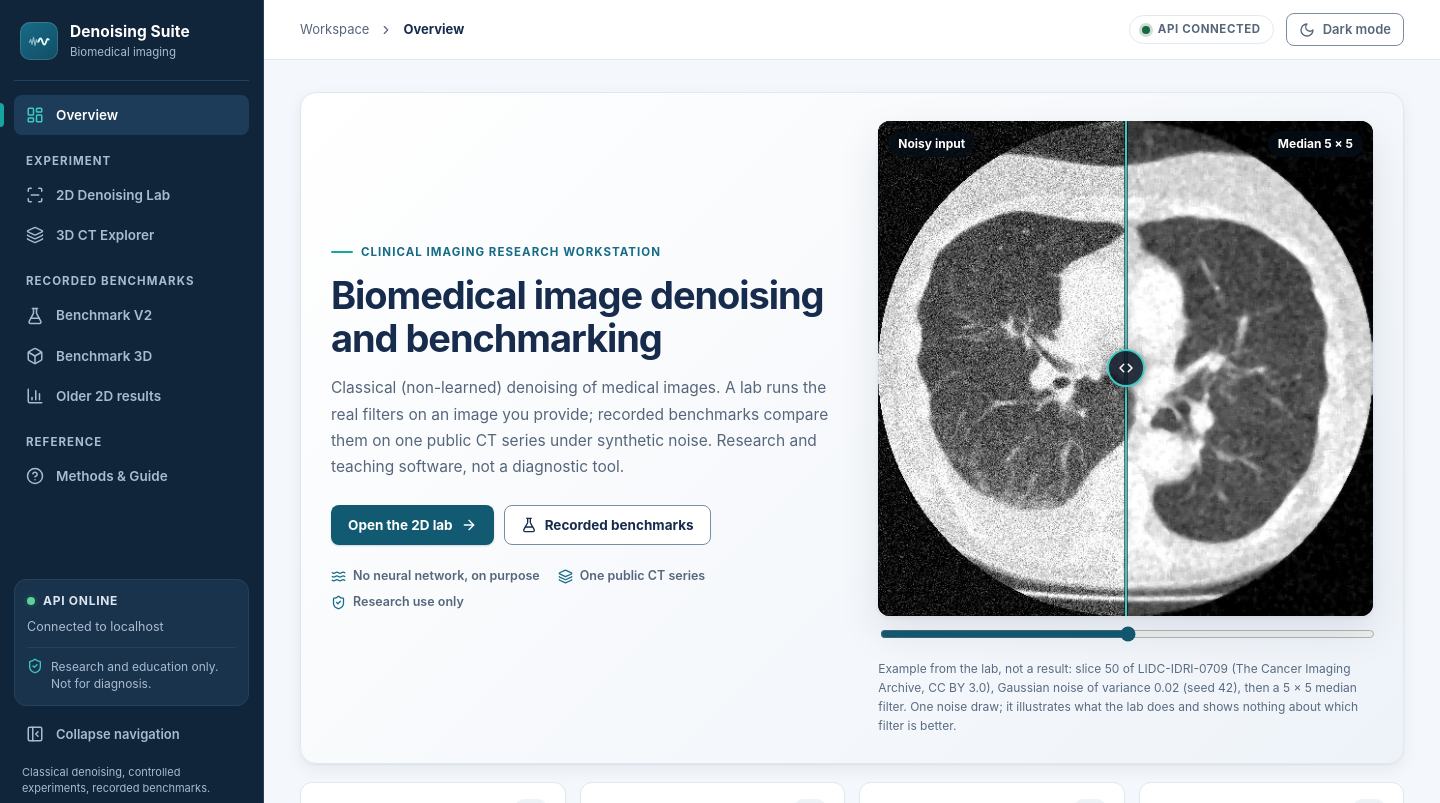
Test: application shell › navigates between pages and marks the current one
The width and height of the screenshot is (1440, 803).
Click the button "2D Denoising Lab". click: click(132, 195)
box: [14,175,249,215]
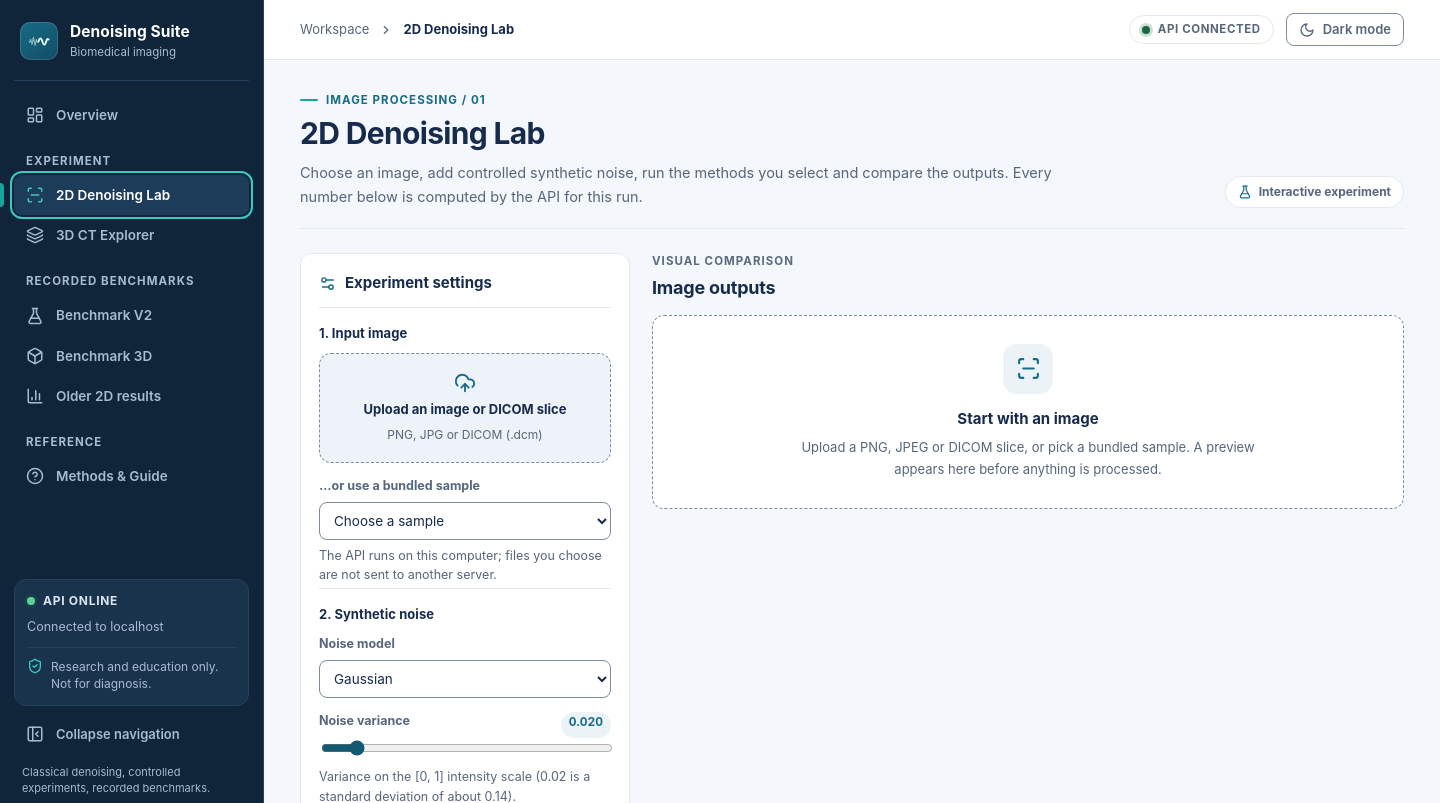
Result: the heading "2D Denoising Lab" is shown at [300,115,545,151]
Click the button "Benchmark V2". click: click(132, 316)
box: [14,295,249,336]
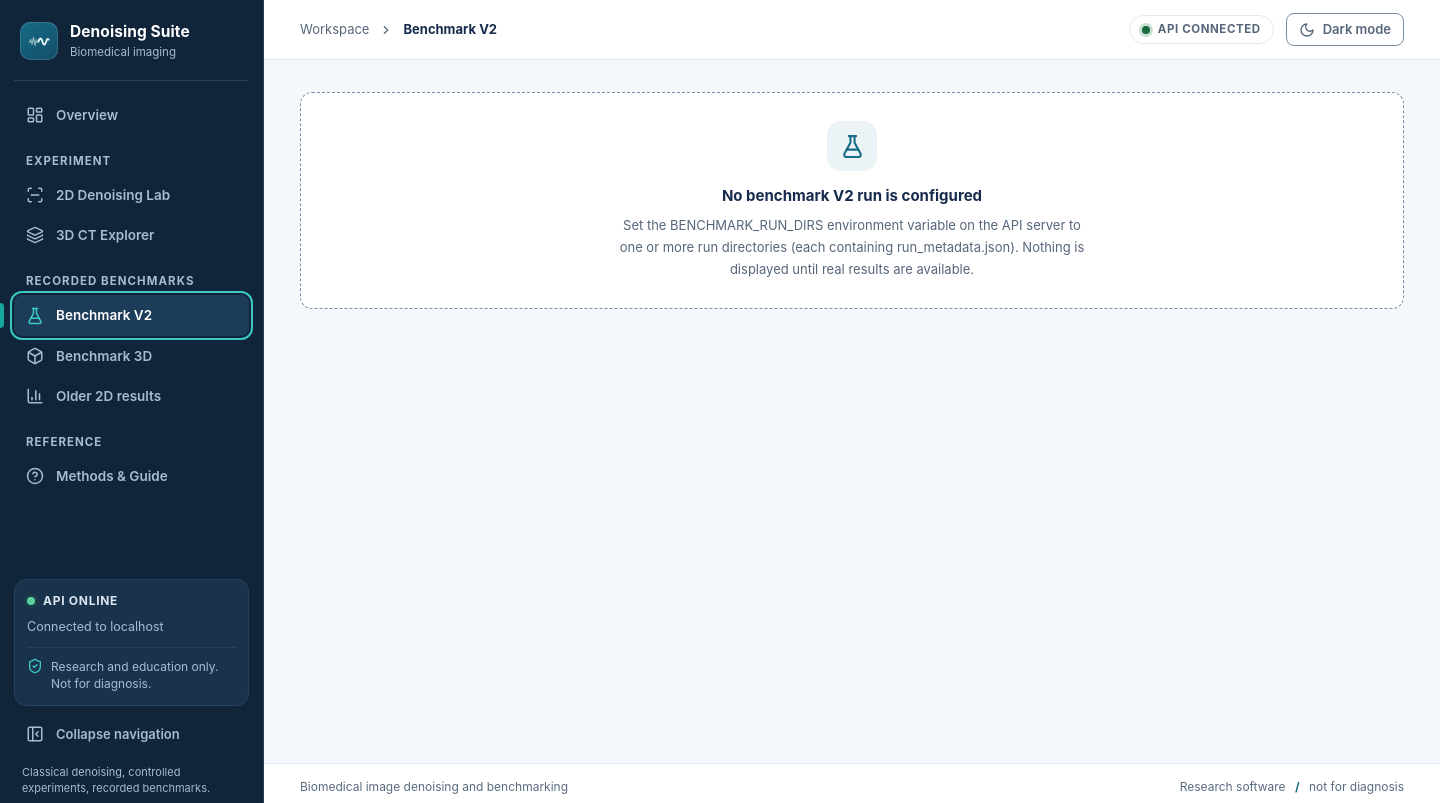
Result: the heading "No benchmark V2 run is configured" is shown at [722,185,982,208]
Click the button "Benchmark 3D". click: click(132, 356)
box: [14,336,249,376]
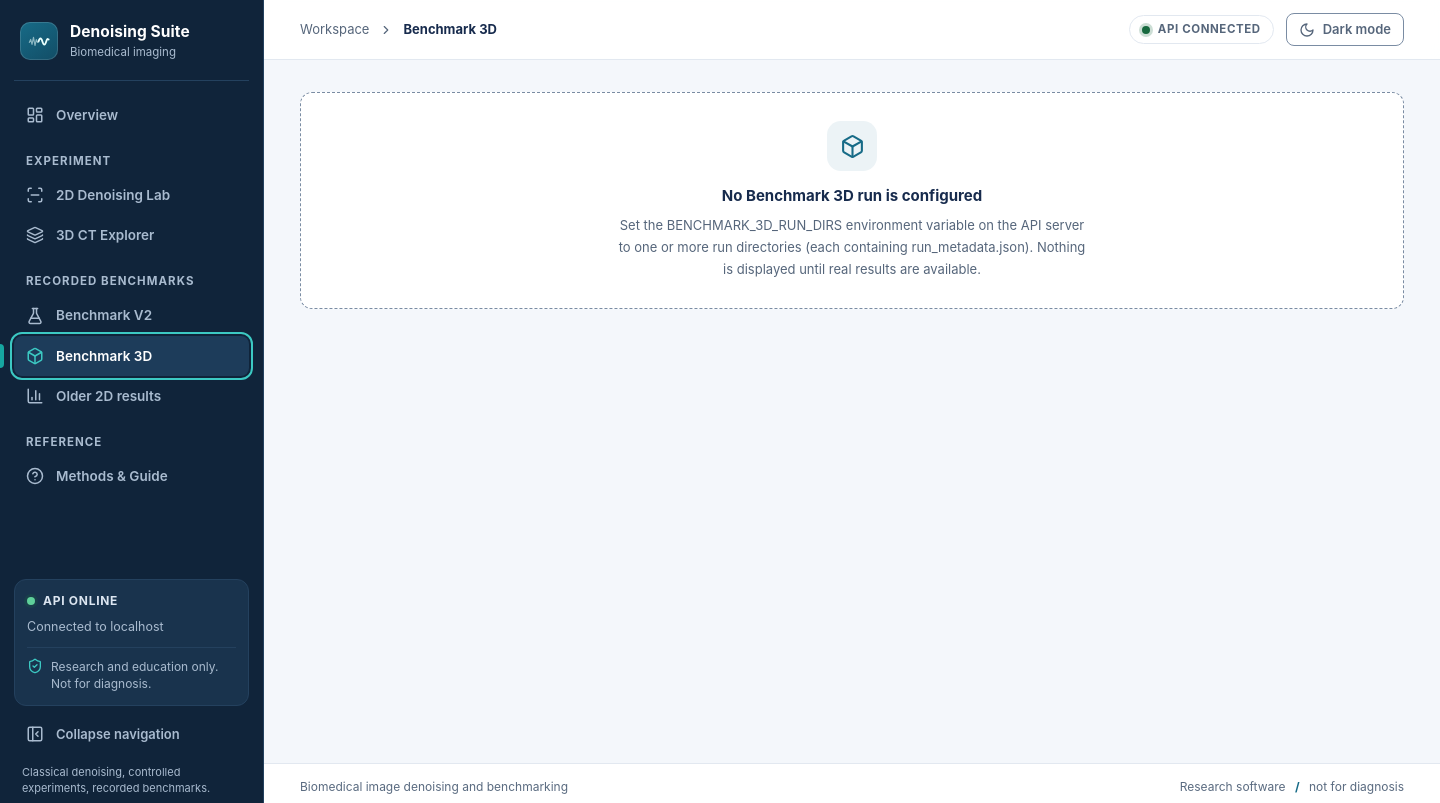
Result: the heading "No Benchmark 3D run is configured" is shown at [722,185,982,208]
Click the button "3D CT Explorer". click: click(132, 235)
box: [14,215,249,255]
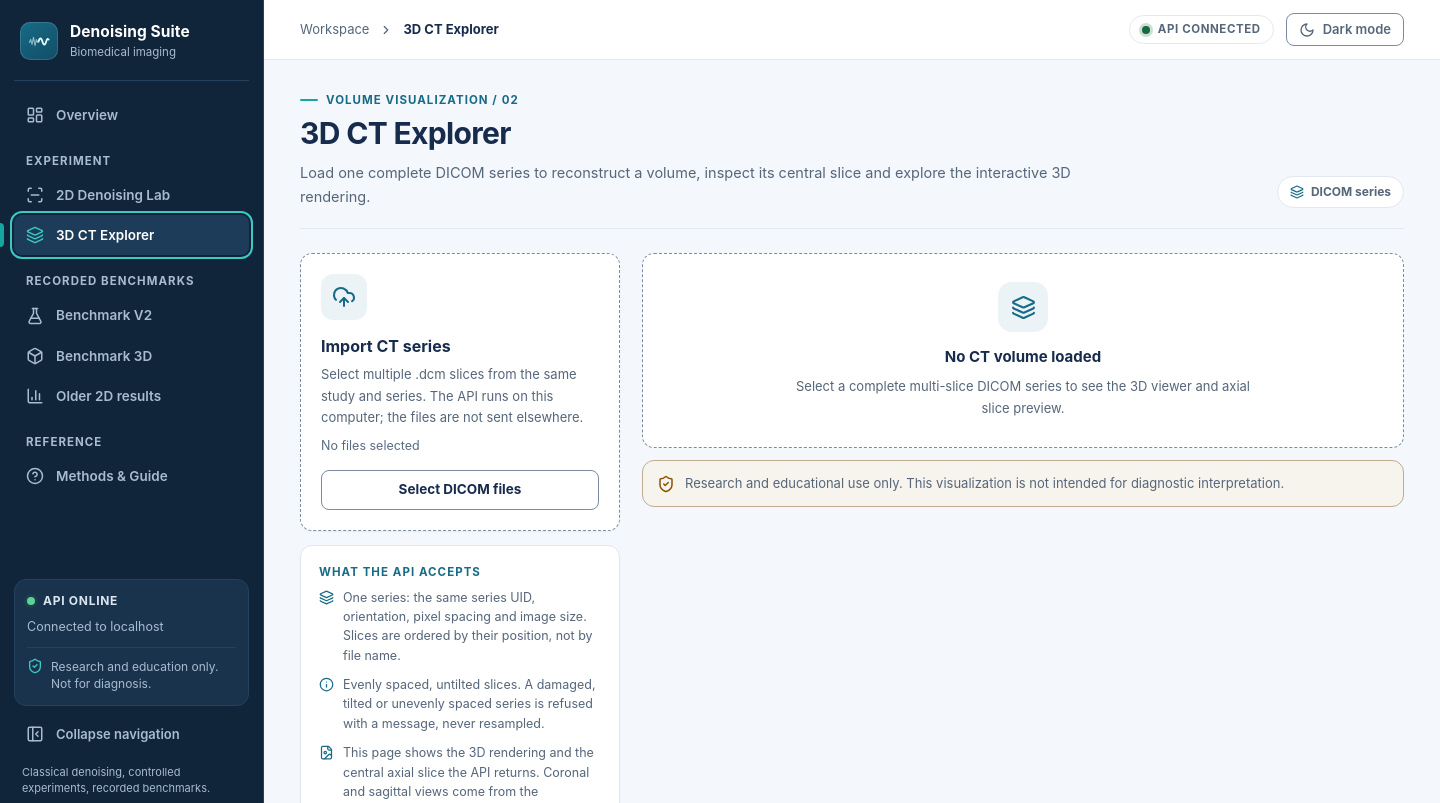
Result: the heading "No CT volume loaded" is shown at [945,346,1101,369]
Click the button "Older 2D results". click: click(132, 396)
box: [14,376,249,416]
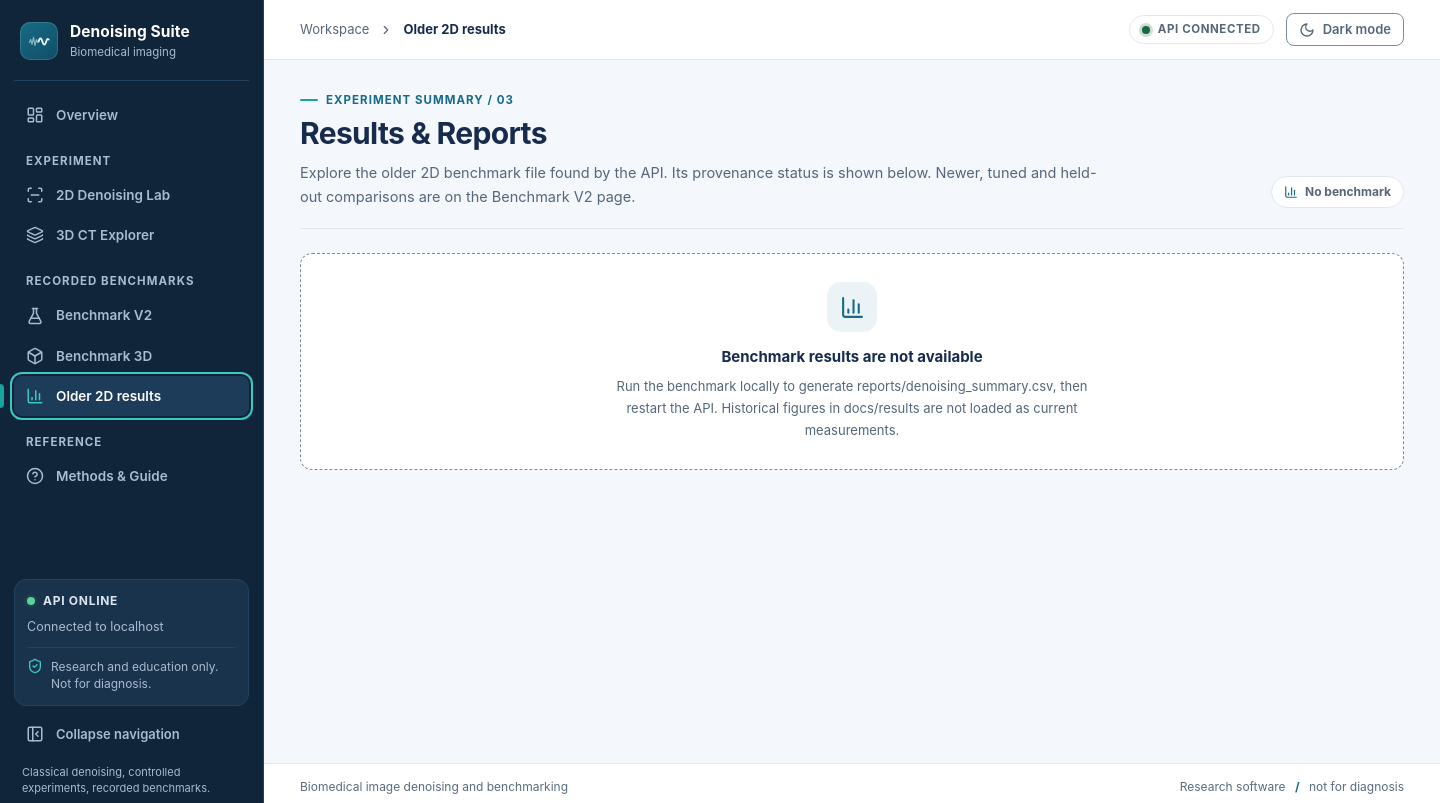
Result: the heading "Benchmark results are not available" is shown at [721,346,983,369]
Click the button "Methods & Guide". click: click(132, 476)
box: [14,456,249,497]
(page scrolled)
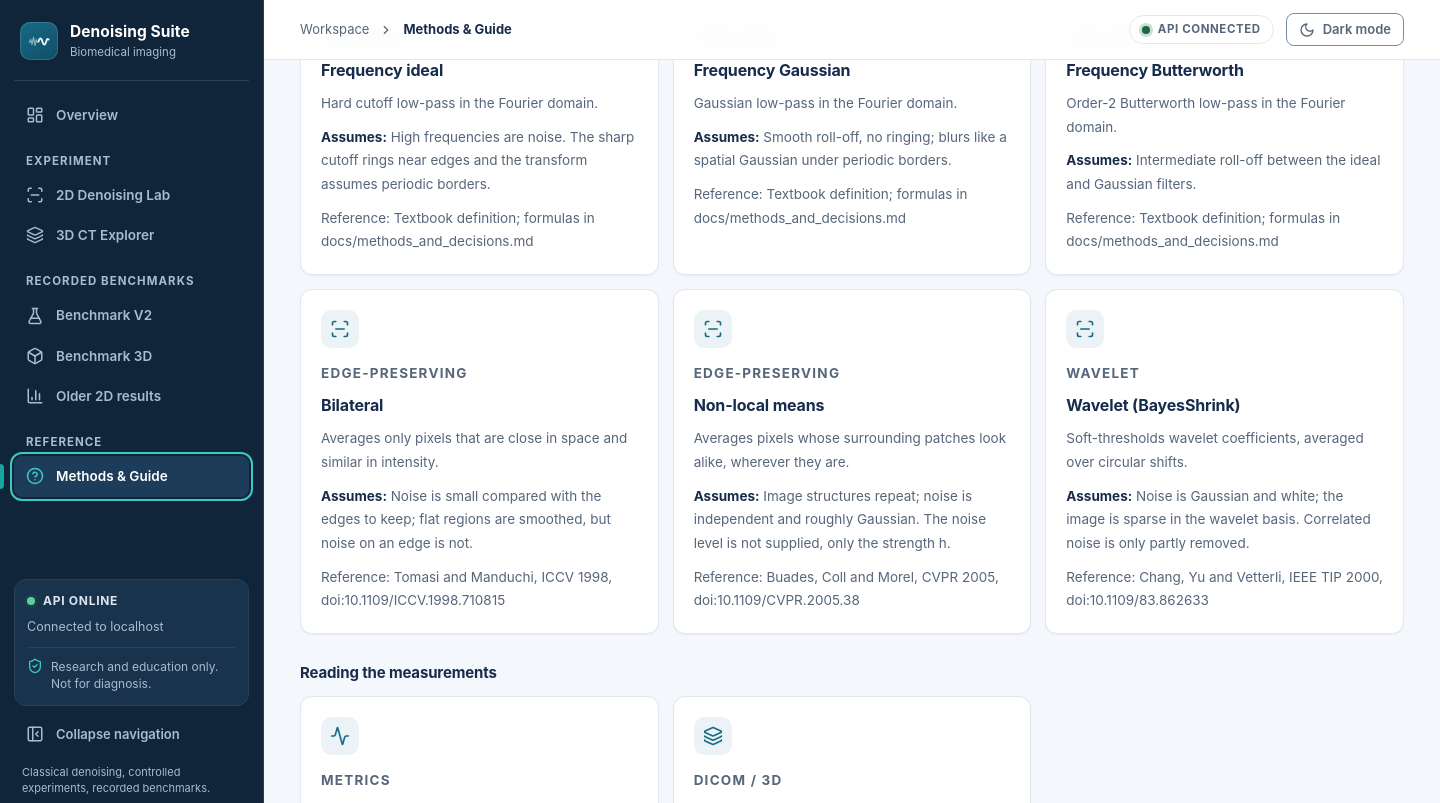
Result: the heading "Wavelet (BayesShrink)" is shown at [1066,395,1240,415]
